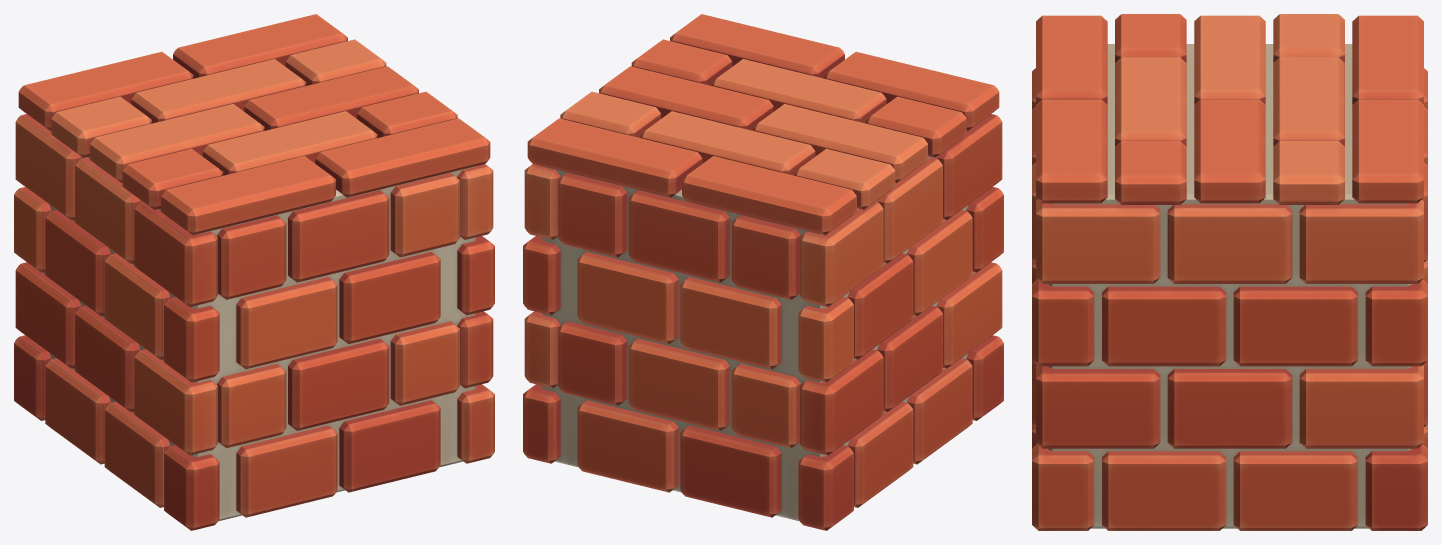
Rendered from prop_brick.glb.
3 renders of one model, left to right at view 1: azimuth 30°, elevation 25°; view 2: azimuth 150°, elevation 25°; view 3: azimuth 270°, elevation 25°, orthographic. The views are drawn at different scales.
Parts seen in each view (by area): view 1: prop; view 2: prop; view 3: prop.
Part boxes in pixels (<box>): prop: <box>14,14,494,530</box>; prop: <box>523,14,1003,530</box>; prop: <box>1032,14,1427,530</box>.
Size of the model in its own units: 3.7 by 3.7 by 3.7.
Materials: 1 (1 with a texture image).
